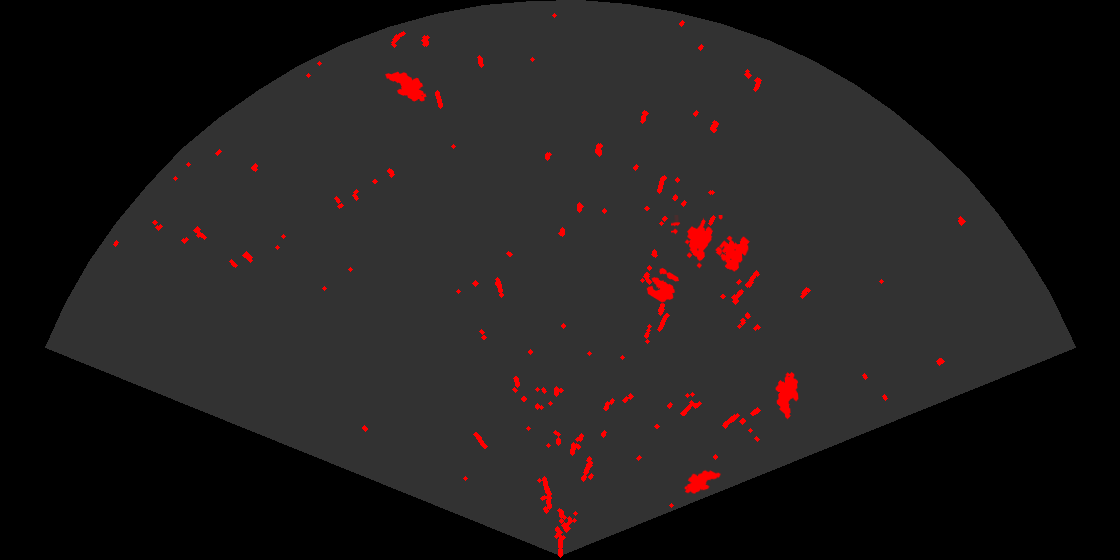AUV: (384, 70, 428, 103), (774, 370, 800, 421), (683, 468, 723, 495)
ball: (645, 266, 681, 304)
cage: (671, 215, 751, 273)
